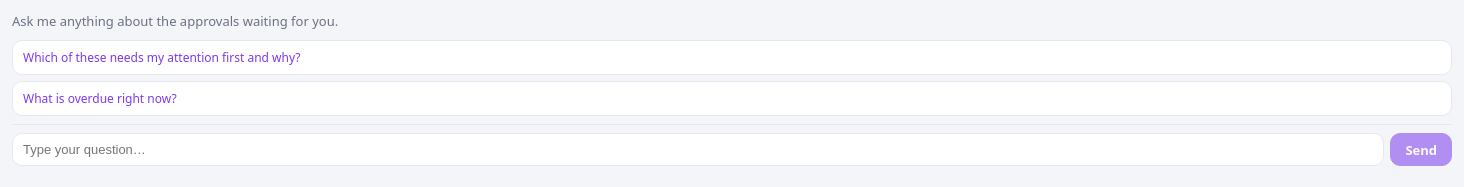
Test: ChatPanel: degraded and error states › treats a stream that ends without a done event as an error (silent failure)
The image size is (1464, 187).
Step 1. Type "Which of these needs my attention first?" into the field named "message the assistant" → {"x": 698, "y": 150}, box [12,133,1384,166]
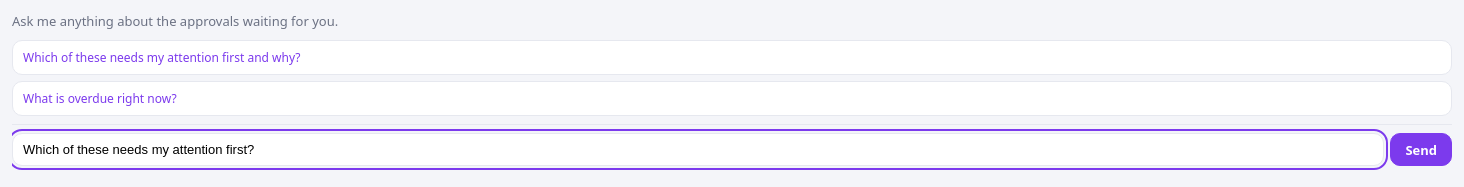
Step 2. Click the button "Send" → {"x": 1421, "y": 150}, box [1390,133,1452,166]
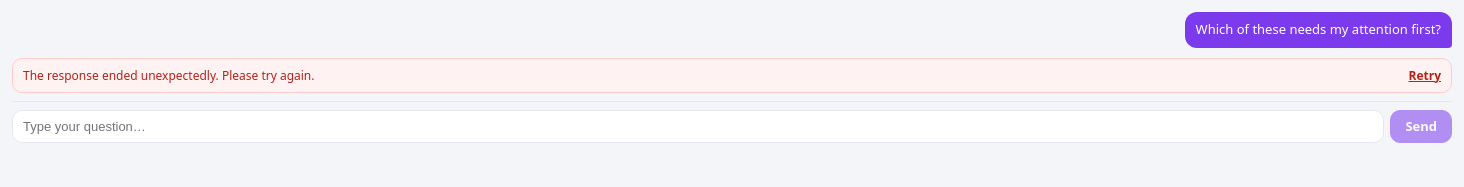
Now the message shows "ended unexpectedly", box [23,66,314,84]
